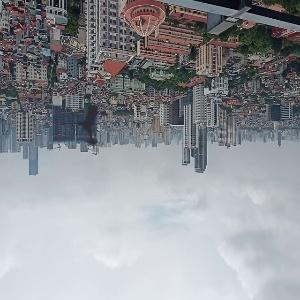drone: (47, 71, 141, 165)
